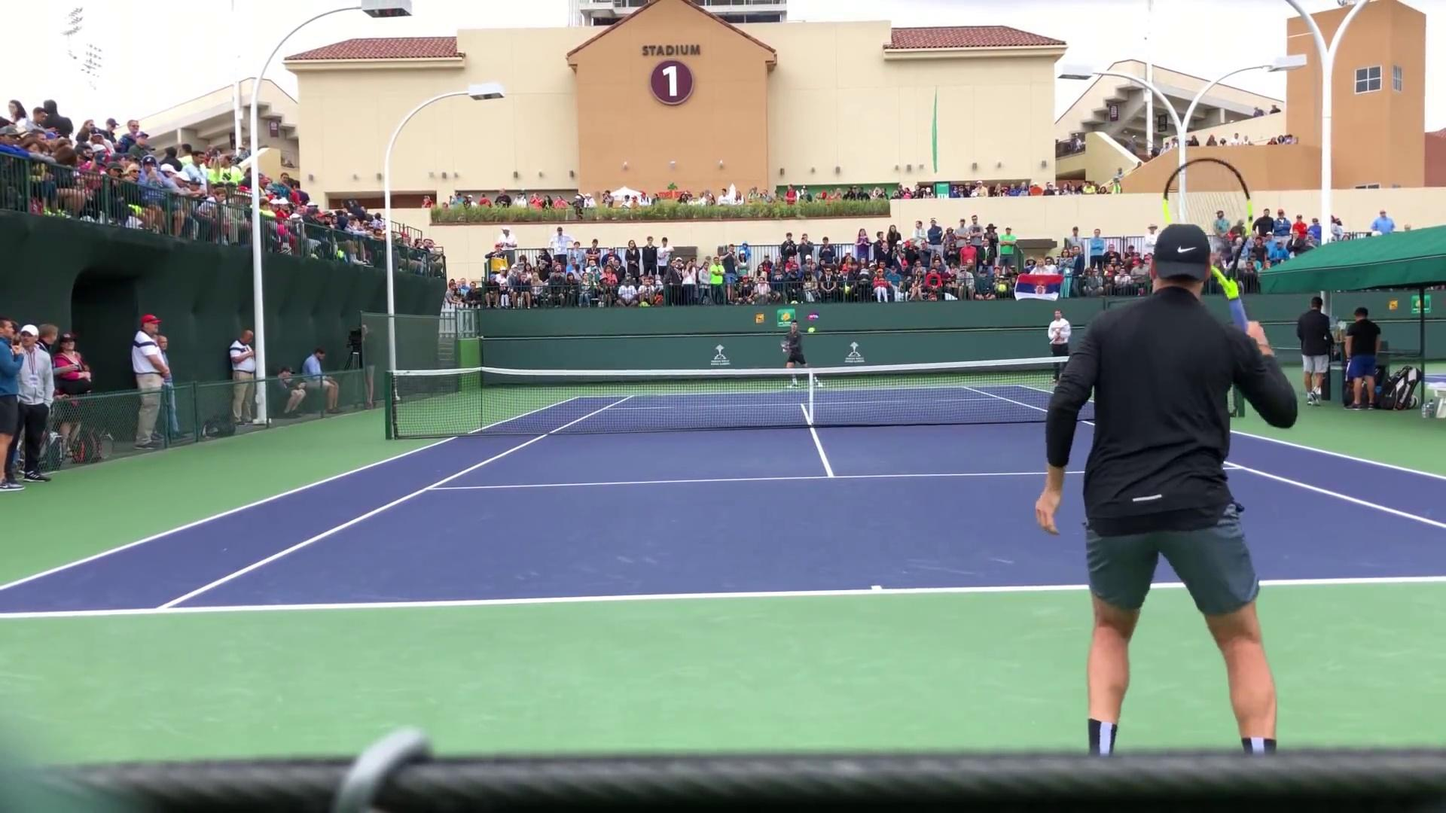ball: (807, 326, 816, 334)
